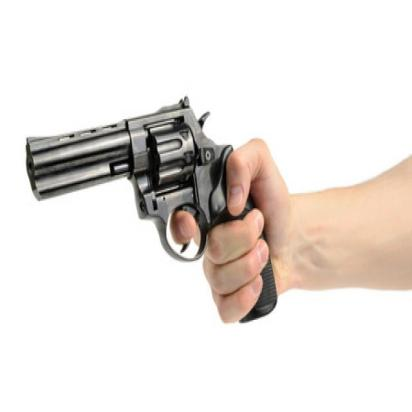Gun: (18, 89, 281, 333)
